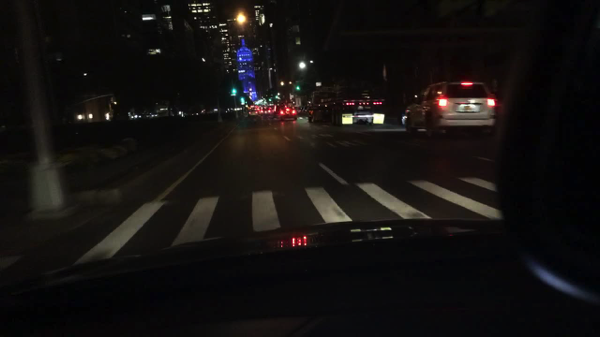car: (400, 81, 497, 139), (104, 110, 132, 124), (280, 106, 298, 122), (272, 105, 283, 119), (134, 111, 151, 120), (247, 107, 259, 118), (301, 105, 312, 116), (258, 107, 268, 117), (266, 105, 274, 117), (201, 108, 212, 116), (213, 106, 223, 114), (177, 110, 188, 117), (151, 112, 162, 119), (191, 111, 201, 117), (296, 106, 302, 114), (223, 108, 231, 114), (256, 107, 261, 115), (230, 107, 237, 112), (237, 107, 242, 111)
traffic light: (296, 85, 301, 91), (110, 97, 114, 104), (232, 88, 237, 93), (269, 99, 273, 103), (275, 95, 279, 99), (242, 97, 245, 101), (245, 101, 248, 105)
traffic sign: (315, 82, 322, 87), (229, 94, 236, 96)
truck: (307, 83, 384, 128)
